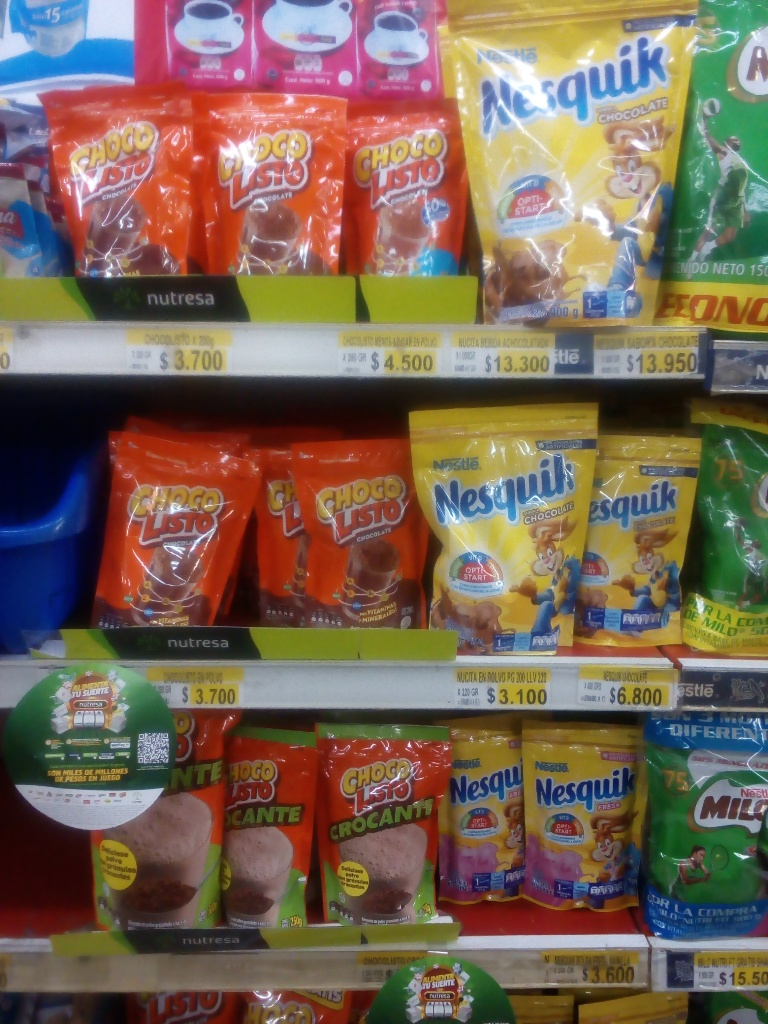COL0170102DYP25000: (312, 717, 438, 923)
COL0170102DYP50000: (84, 702, 236, 923)
COL0170104DYP20000: (339, 96, 471, 280)
COL0170203DYP50000: (693, 405, 768, 659)
COL0170205DYP50000: (639, 746, 765, 934)
COL0170303DYP20000: (574, 432, 697, 658)
COL0170305DYP20000: (443, 717, 530, 911)
